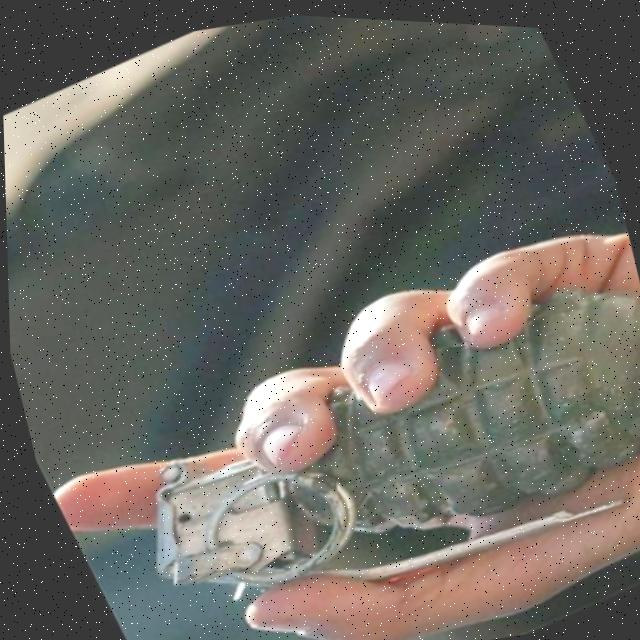grenade: (92, 207, 640, 633)
